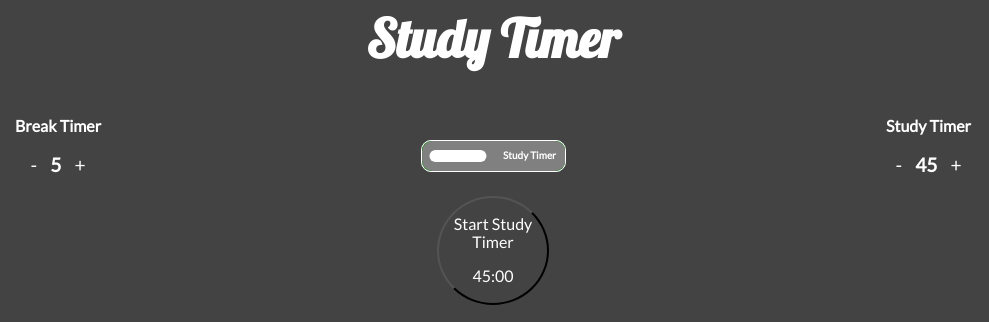
Test: Pomodoro Clock › can decrease/increase break time
Expected: the text with test id "break-length-controls-value" reads "5", top-left (50, 153), bottom-right (61, 176)
Click the button with test id "break-length-controls-decrement".
click(34, 165)  # box top-left (18, 135), bottom-right (50, 196)
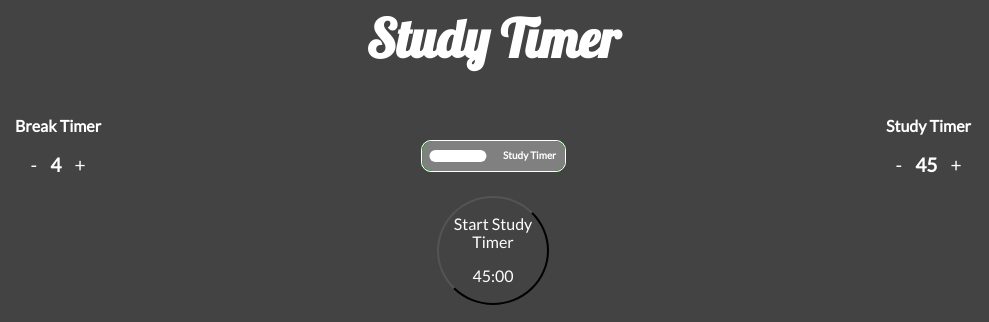
Expected: the text with test id "break-length-controls-value" reads "4", top-left (50, 153), bottom-right (61, 176)
Click the button with test id "break-length-controls-increment".
click(80, 165)  # box top-left (61, 135), bottom-right (98, 196)
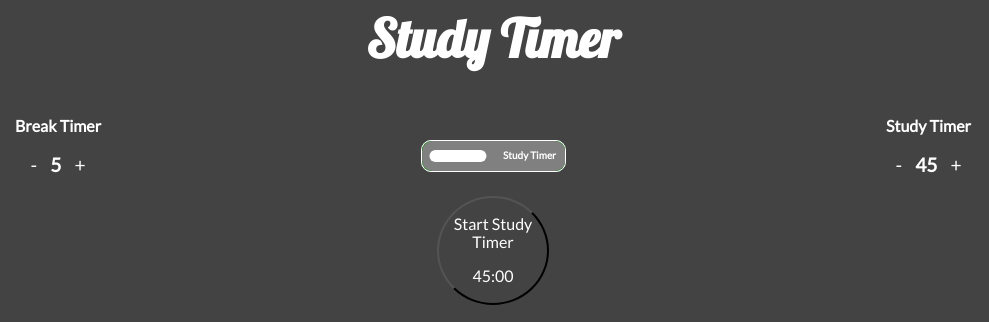
Click the button with test id "break-length-controls-increment".
click(80, 165)  # box top-left (61, 135), bottom-right (98, 196)
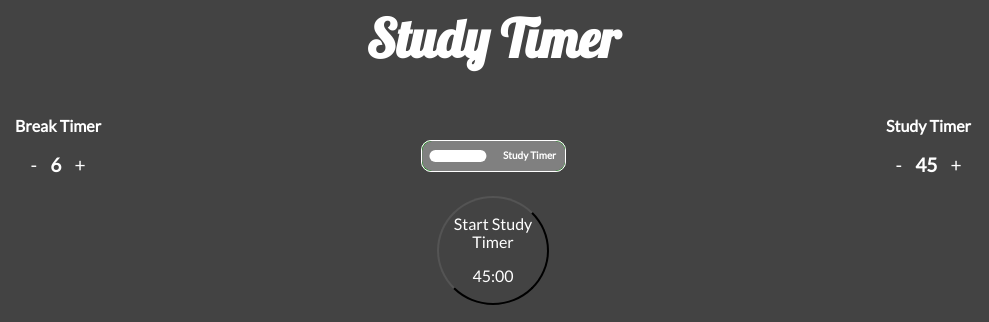
Expected: the text with test id "break-length-controls-value" reads "6", top-left (50, 153), bottom-right (61, 176)
